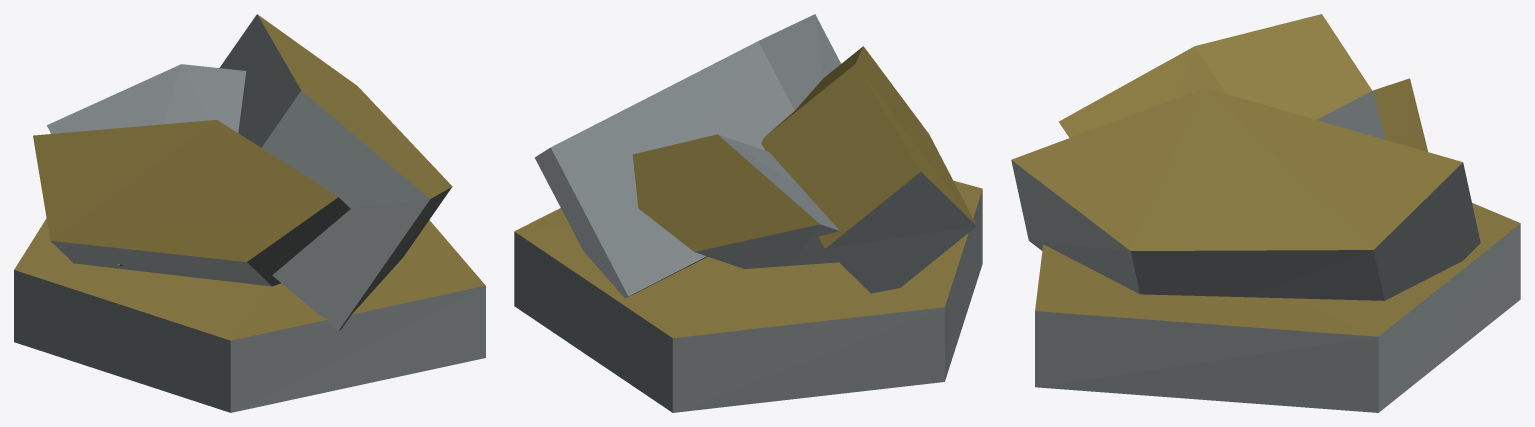
The model's file is rock.shard__buried__summer.glb.
3 views of the same model, side by side, from view 1: azimuth 30°, elevation 25°; view 2: azimuth 150°, elevation 25°; view 3: azimuth 270°, elevation 25° (orthographic). The views are drawn at different scales.
Parts seen in each view (by area): view 1: rock.shard; view 2: rock.shard; view 3: rock.shard.
Boxes of the visible parts, <box> form: rock.shard: <box>14,14,485,412</box>; rock.shard: <box>514,14,982,412</box>; rock.shard: <box>1011,14,1520,412</box>.
Bounding box in the file's own units: 1.57 × 0.9061 × 1.7.
